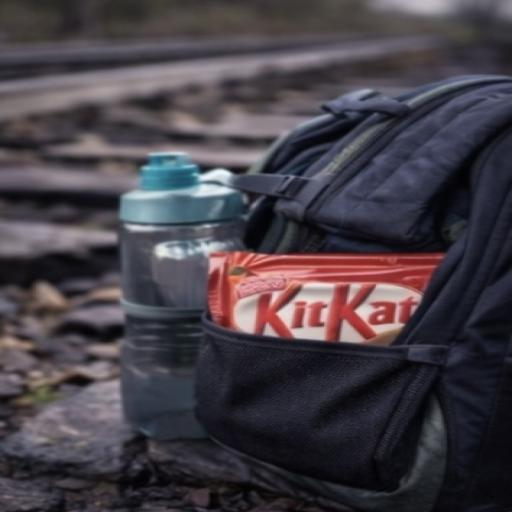kitkat: (153, 216, 492, 395)
